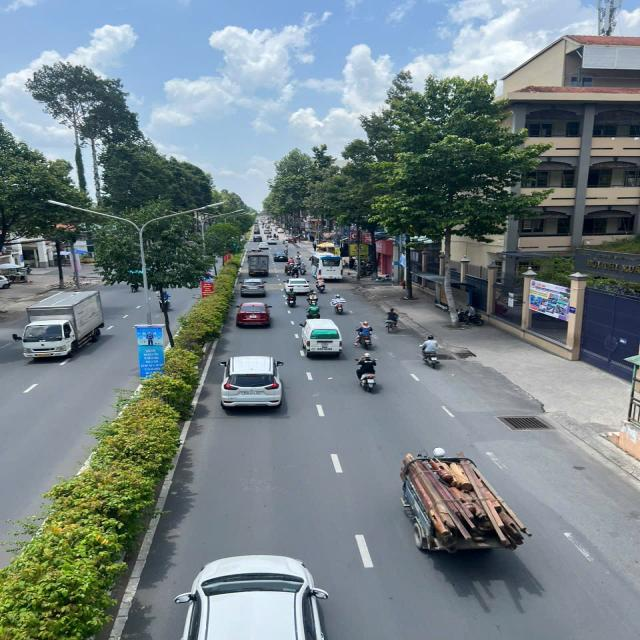ben: (17, 287, 105, 360), (245, 251, 273, 279)
car: (175, 553, 330, 640), (216, 354, 286, 412), (299, 318, 345, 362), (236, 300, 274, 330), (312, 251, 346, 282), (240, 276, 268, 298), (284, 275, 312, 296), (273, 250, 290, 263)
motobyte: (354, 353, 380, 395), (421, 333, 443, 370), (356, 319, 378, 351), (304, 301, 324, 323), (330, 290, 347, 314), (330, 291, 347, 315), (284, 286, 300, 308), (305, 288, 321, 308), (313, 275, 328, 294)
